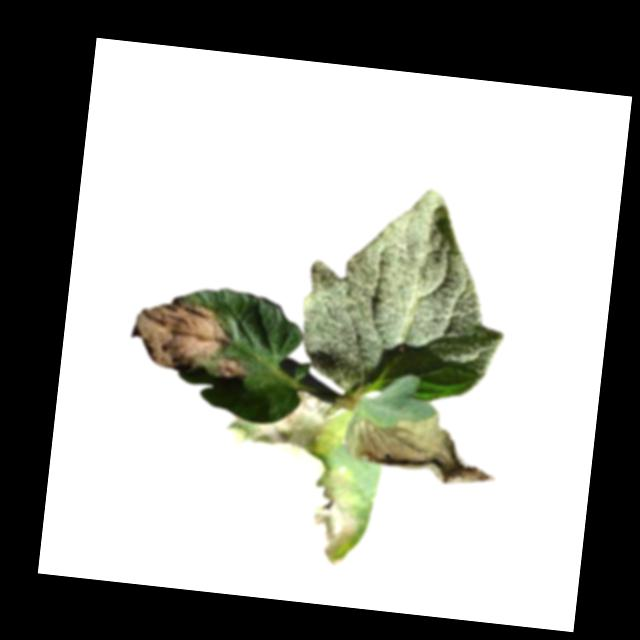Late_blight: (214, 386, 375, 564), (341, 400, 506, 491), (126, 294, 255, 378)
healthy: (291, 174, 519, 410)
